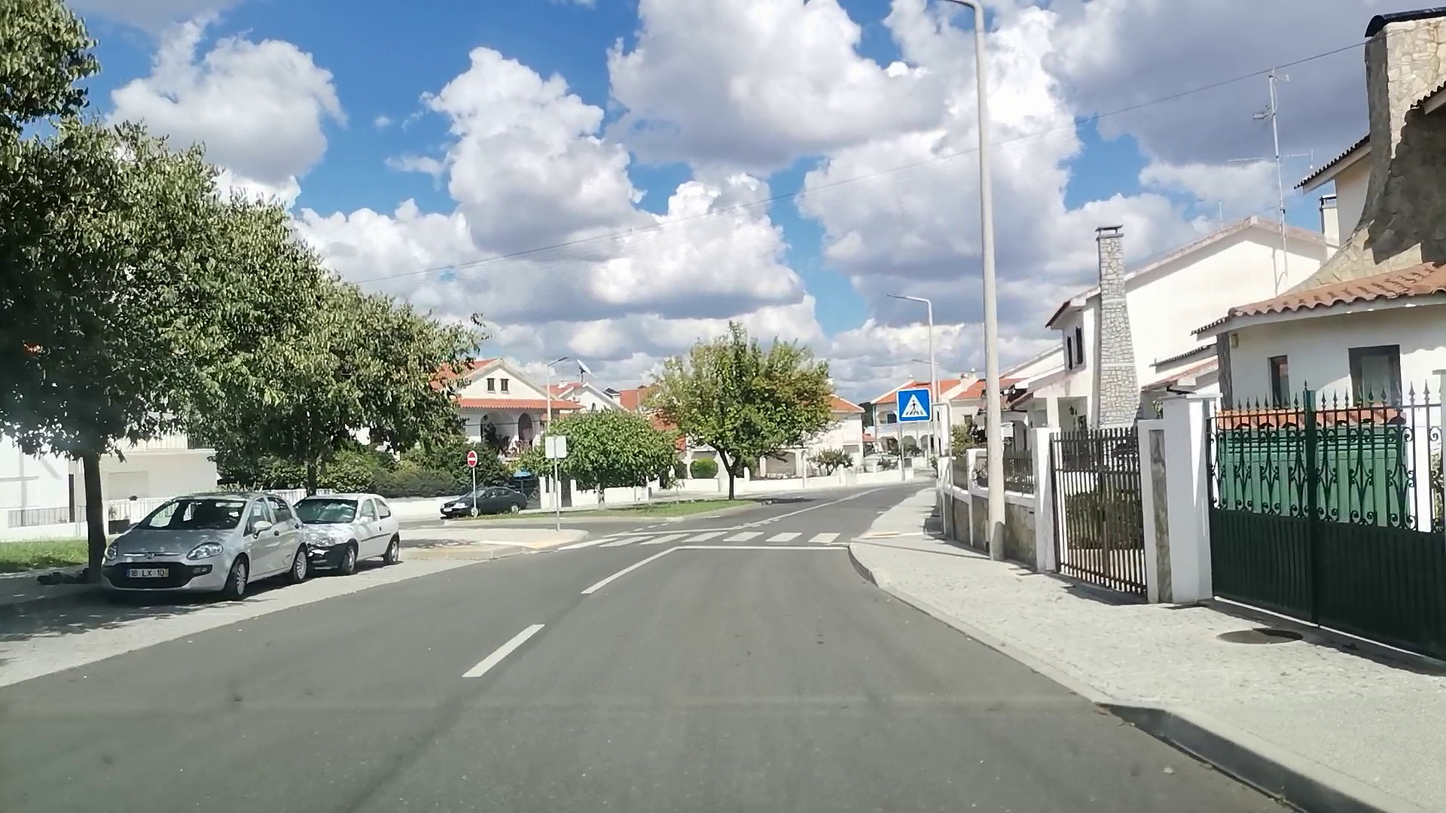Stairs: (562, 529, 845, 550)
